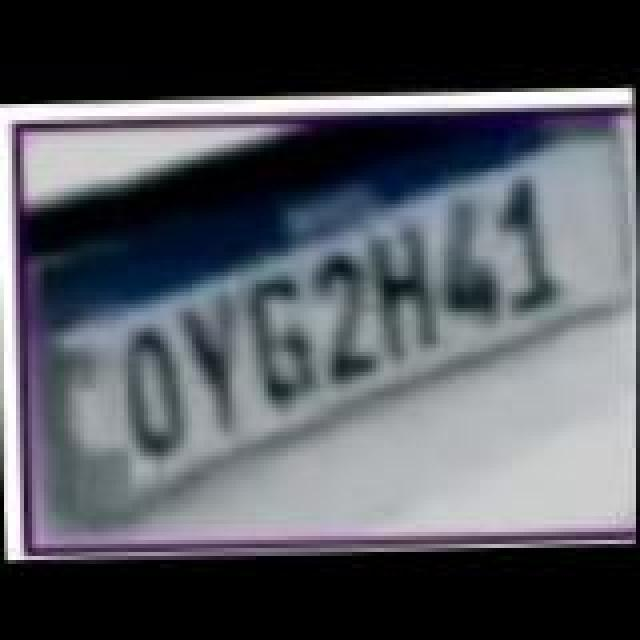1: (500, 180, 564, 316)
2: (312, 250, 380, 386)
4: (436, 198, 500, 322)
G: (246, 274, 318, 406)
H: (368, 224, 440, 356)
O: (122, 326, 190, 462)
Y: (182, 298, 250, 434)
